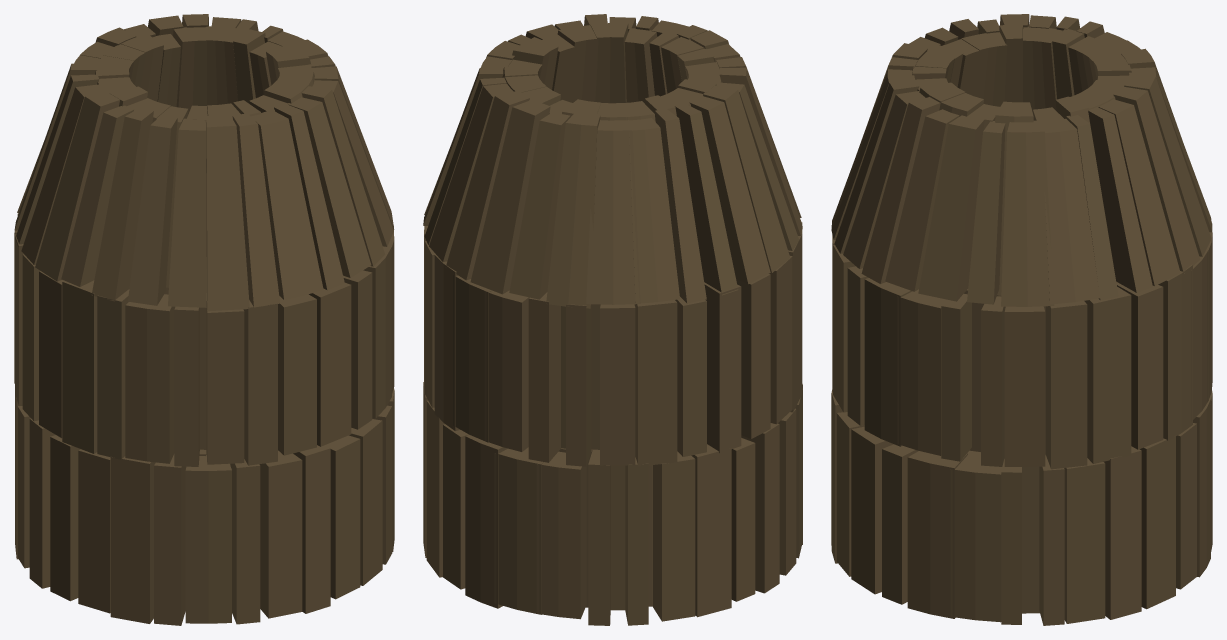
Rendered from Wall3.fbx.
3 renders of one model, left to right at view 1: azimuth 30°, elevation 25°; view 2: azimuth 150°, elevation 25°; view 3: azimuth 270°, elevation 25°, orthographic.
Parts seen in each view (by area): view 1: Wall.003; view 2: Wall.003; view 3: Wall.003.
Part boxes in pixels (box(x1,y1,x2,y2)): Wall.003: box(14, 14, 394, 625); Wall.003: box(423, 14, 802, 625); Wall.003: box(831, 14, 1212, 625).
Size of the model in its own units: 337 by 466 by 337.
